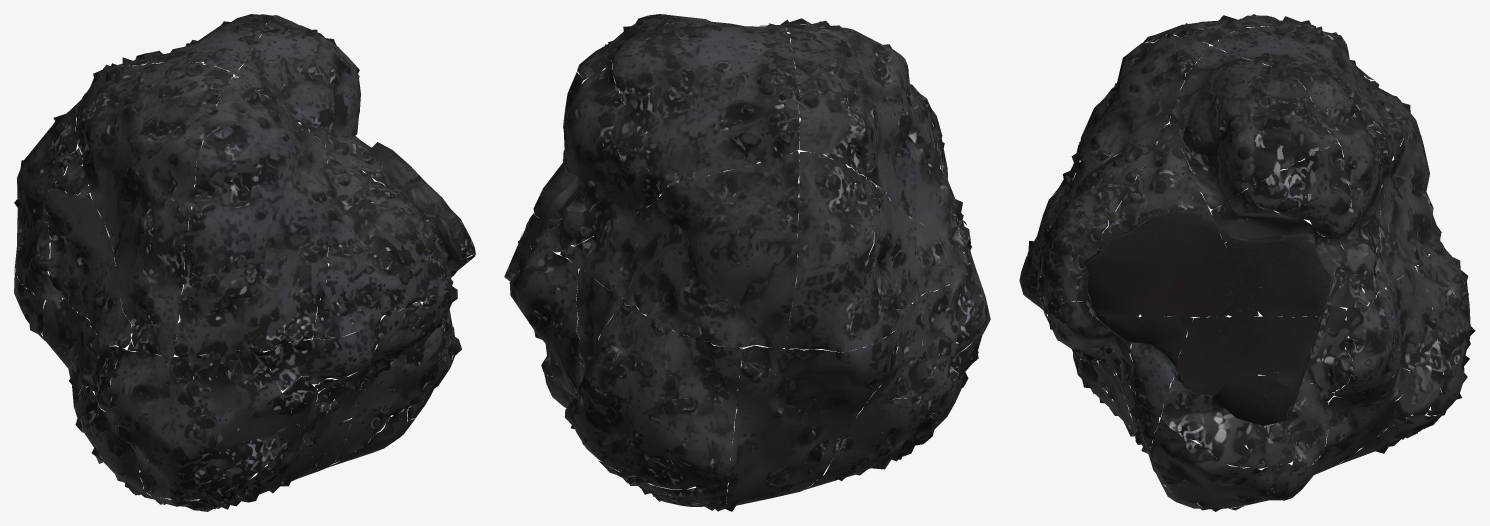
Rendered from tar_lump.glb.
3 views of the same model, side by side, from view 1: azimuth 30°, elevation 25°; view 2: azimuth 150°, elevation 25°; view 3: azimuth 270°, elevation 25° (orthographic). The views are drawn at different scales.
Parts seen in each view (by area): view 1: tripo_node_ffde36c4-6f30-4ee9-9bb2-7b6496450c3c; view 2: tripo_node_ffde36c4-6f30-4ee9-9bb2-7b6496450c3c; view 3: tripo_node_ffde36c4-6f30-4ee9-9bb2-7b6496450c3c.
Part boxes in pixels (<box>): tripo_node_ffde36c4-6f30-4ee9-9bb2-7b6496450c3c: <box>14,14,475,511</box>; tripo_node_ffde36c4-6f30-4ee9-9bb2-7b6496450c3c: <box>504,14,990,511</box>; tripo_node_ffde36c4-6f30-4ee9-9bb2-7b6496450c3c: <box>1019,14,1475,511</box>.
Size of the model in its own units: 0.9781 by 1 by 0.9957.
1 material, 1 textured.
